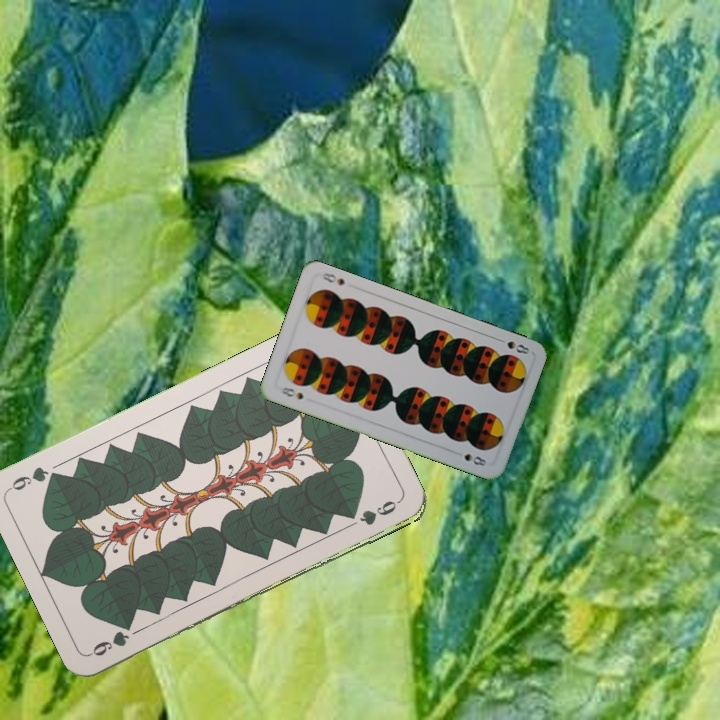G9: (86, 620, 135, 659)
S8: (493, 334, 532, 357), (276, 382, 306, 402)
